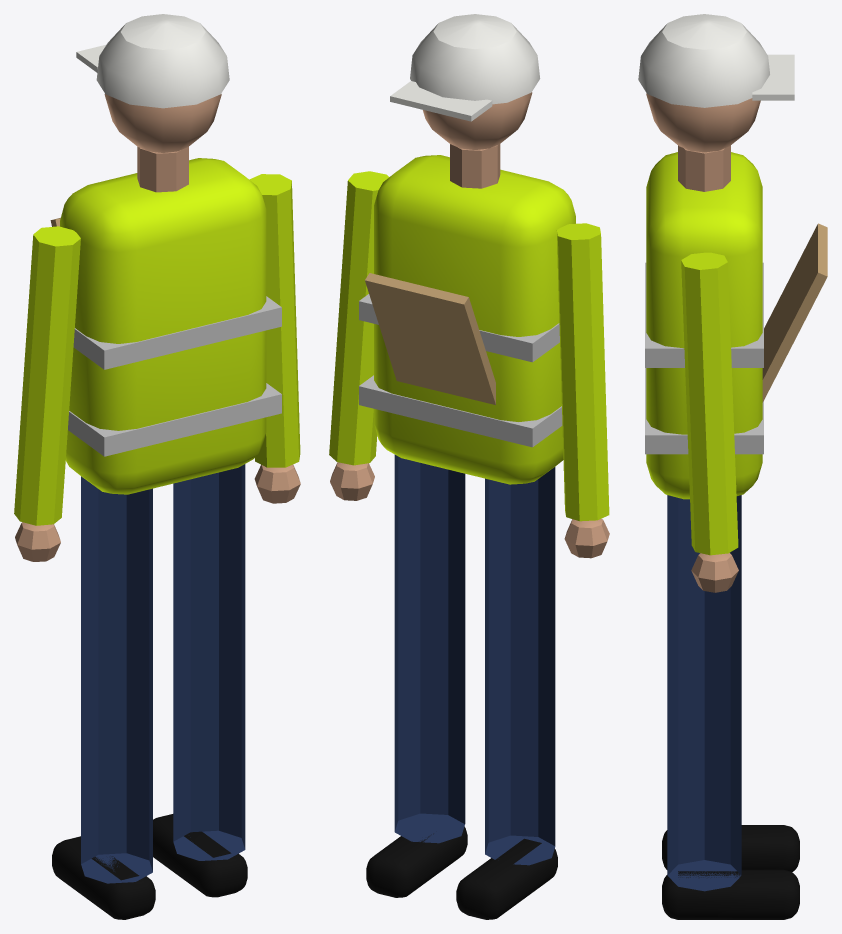
The model's file is people.crew.foreman.glb.
3 views of the same model, side by side, from view 1: azimuth 30°, elevation 25°; view 2: azimuth 150°, elevation 25°; view 3: azimuth 270°, elevation 25° (orthographic). The views are drawn at different scales.
Parts seen in each view (by area): view 1: main__hivis_yellow, main__denim, main__paint_white, main__steel_stainless, main__skin, main__plastic_black; view 2: main__hivis_yellow, main__denim, main__paint_white, main__plywood, main__plastic_black, main__skin, main__steel_stainless; view 3: main__hivis_yellow, main__denim, main__paint_white, main__plastic_black, main__skin, main__plywood, main__steel_stainless.
Part boxes in pixels (left/top/right/bottom): main__hivis_yellow: left=14, top=158, right=300, bottom=525; main__denim: left=81, top=464, right=245, bottom=883; main__paint_white: left=76, top=14, right=229, bottom=108; main__steel_stainless: left=68, top=296, right=281, bottom=456; main__skin: left=15, top=94, right=300, bottom=561; main__plastic_black: left=52, top=814, right=247, bottom=919; main__hivis_yellow: left=329, top=155, right=609, bottom=521; main__denim: left=394, top=454, right=555, bottom=865; main__paint_white: left=390, top=14, right=540, bottom=121; main__plywood: left=365, top=273, right=495, bottom=404; main__plastic_black: left=366, top=826, right=557, bottom=919; main__skin: left=330, top=92, right=609, bottom=558; main__steel_stainless: left=359, top=294, right=562, bottom=447; main__hivis_yellow: left=646, top=152, right=762, bottom=555; main__denim: left=667, top=495, right=741, bottom=891; main__paint_white: left=638, top=14, right=794, bottom=107; main__plastic_black: left=662, top=825, right=799, bottom=919; main__skin: left=646, top=93, right=760, bottom=592; main__plywood: left=762, top=223, right=827, bottom=402; main__steel_stainless: left=645, top=262, right=763, bottom=454.
Bounding box in the file's own units: 0.61 × 1.81 × 0.3575.
